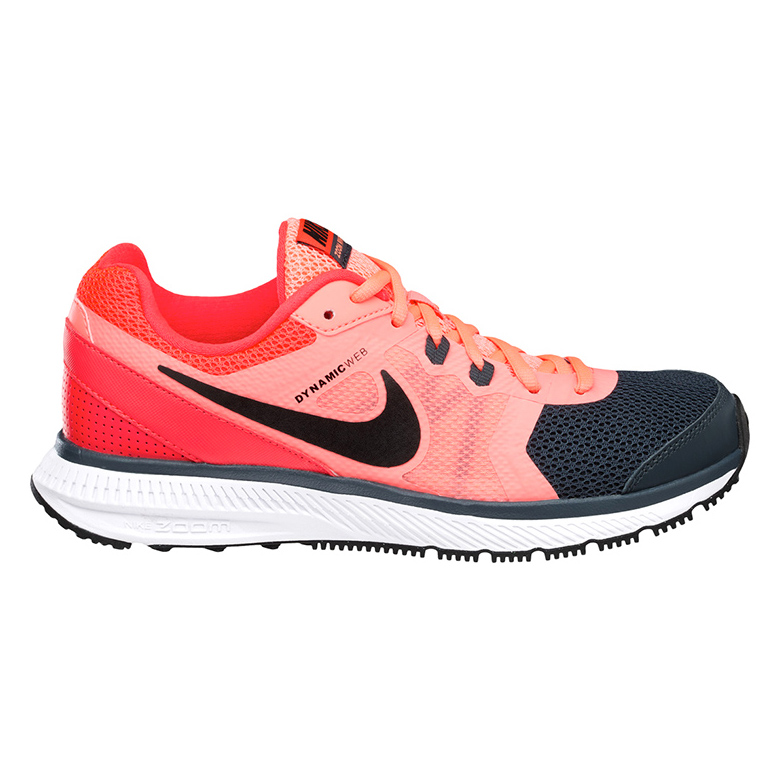Nike: (152, 360, 421, 471)
